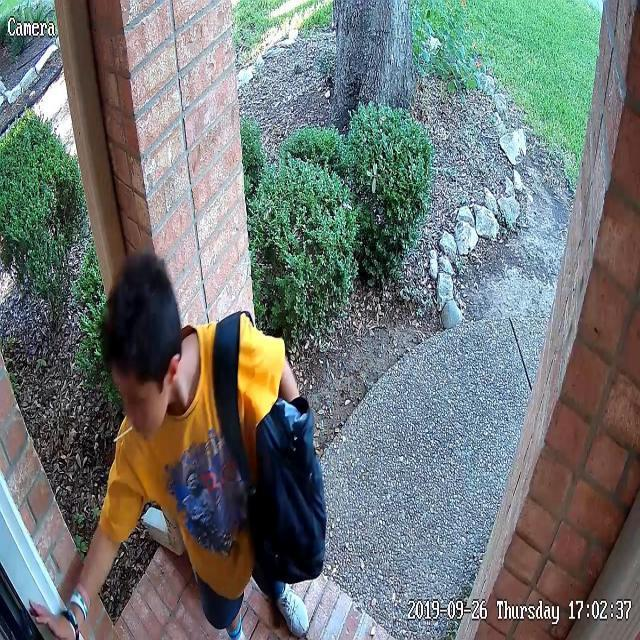walking: (47, 257, 331, 640)
